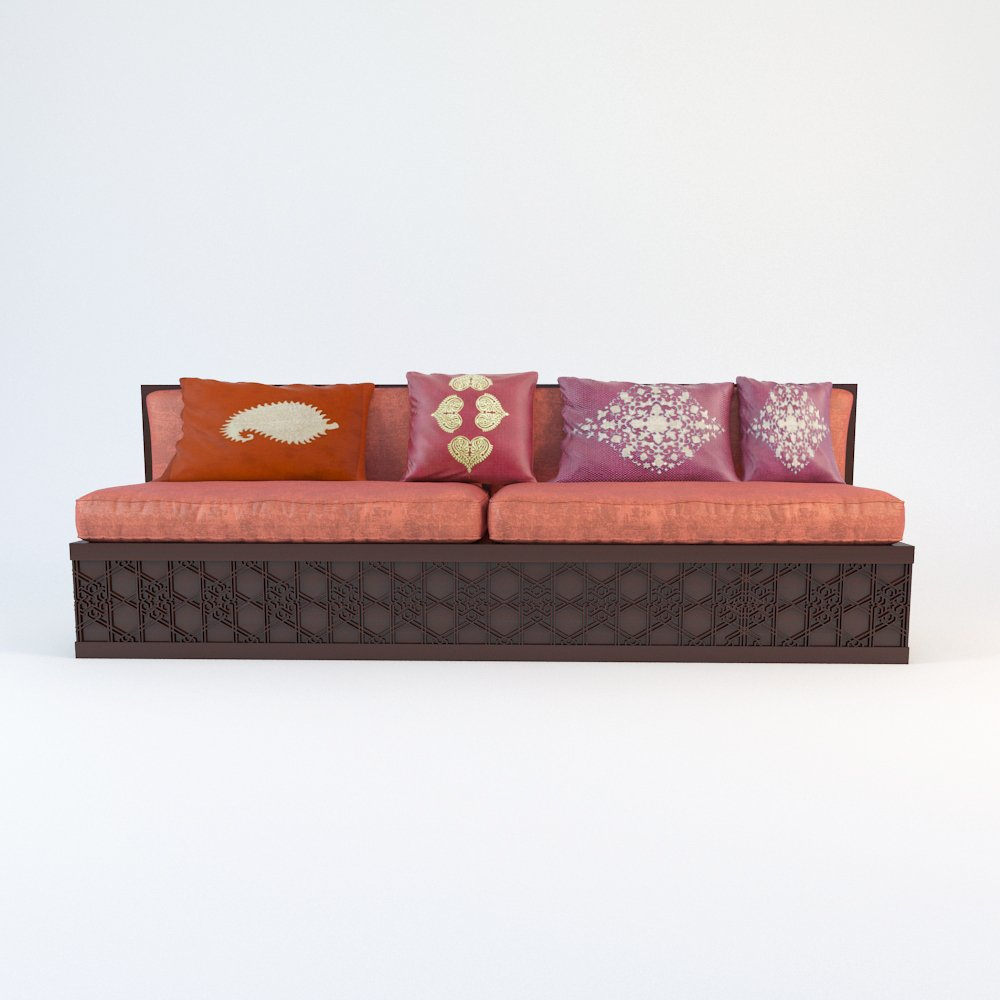chairs: (65, 370, 924, 677)
